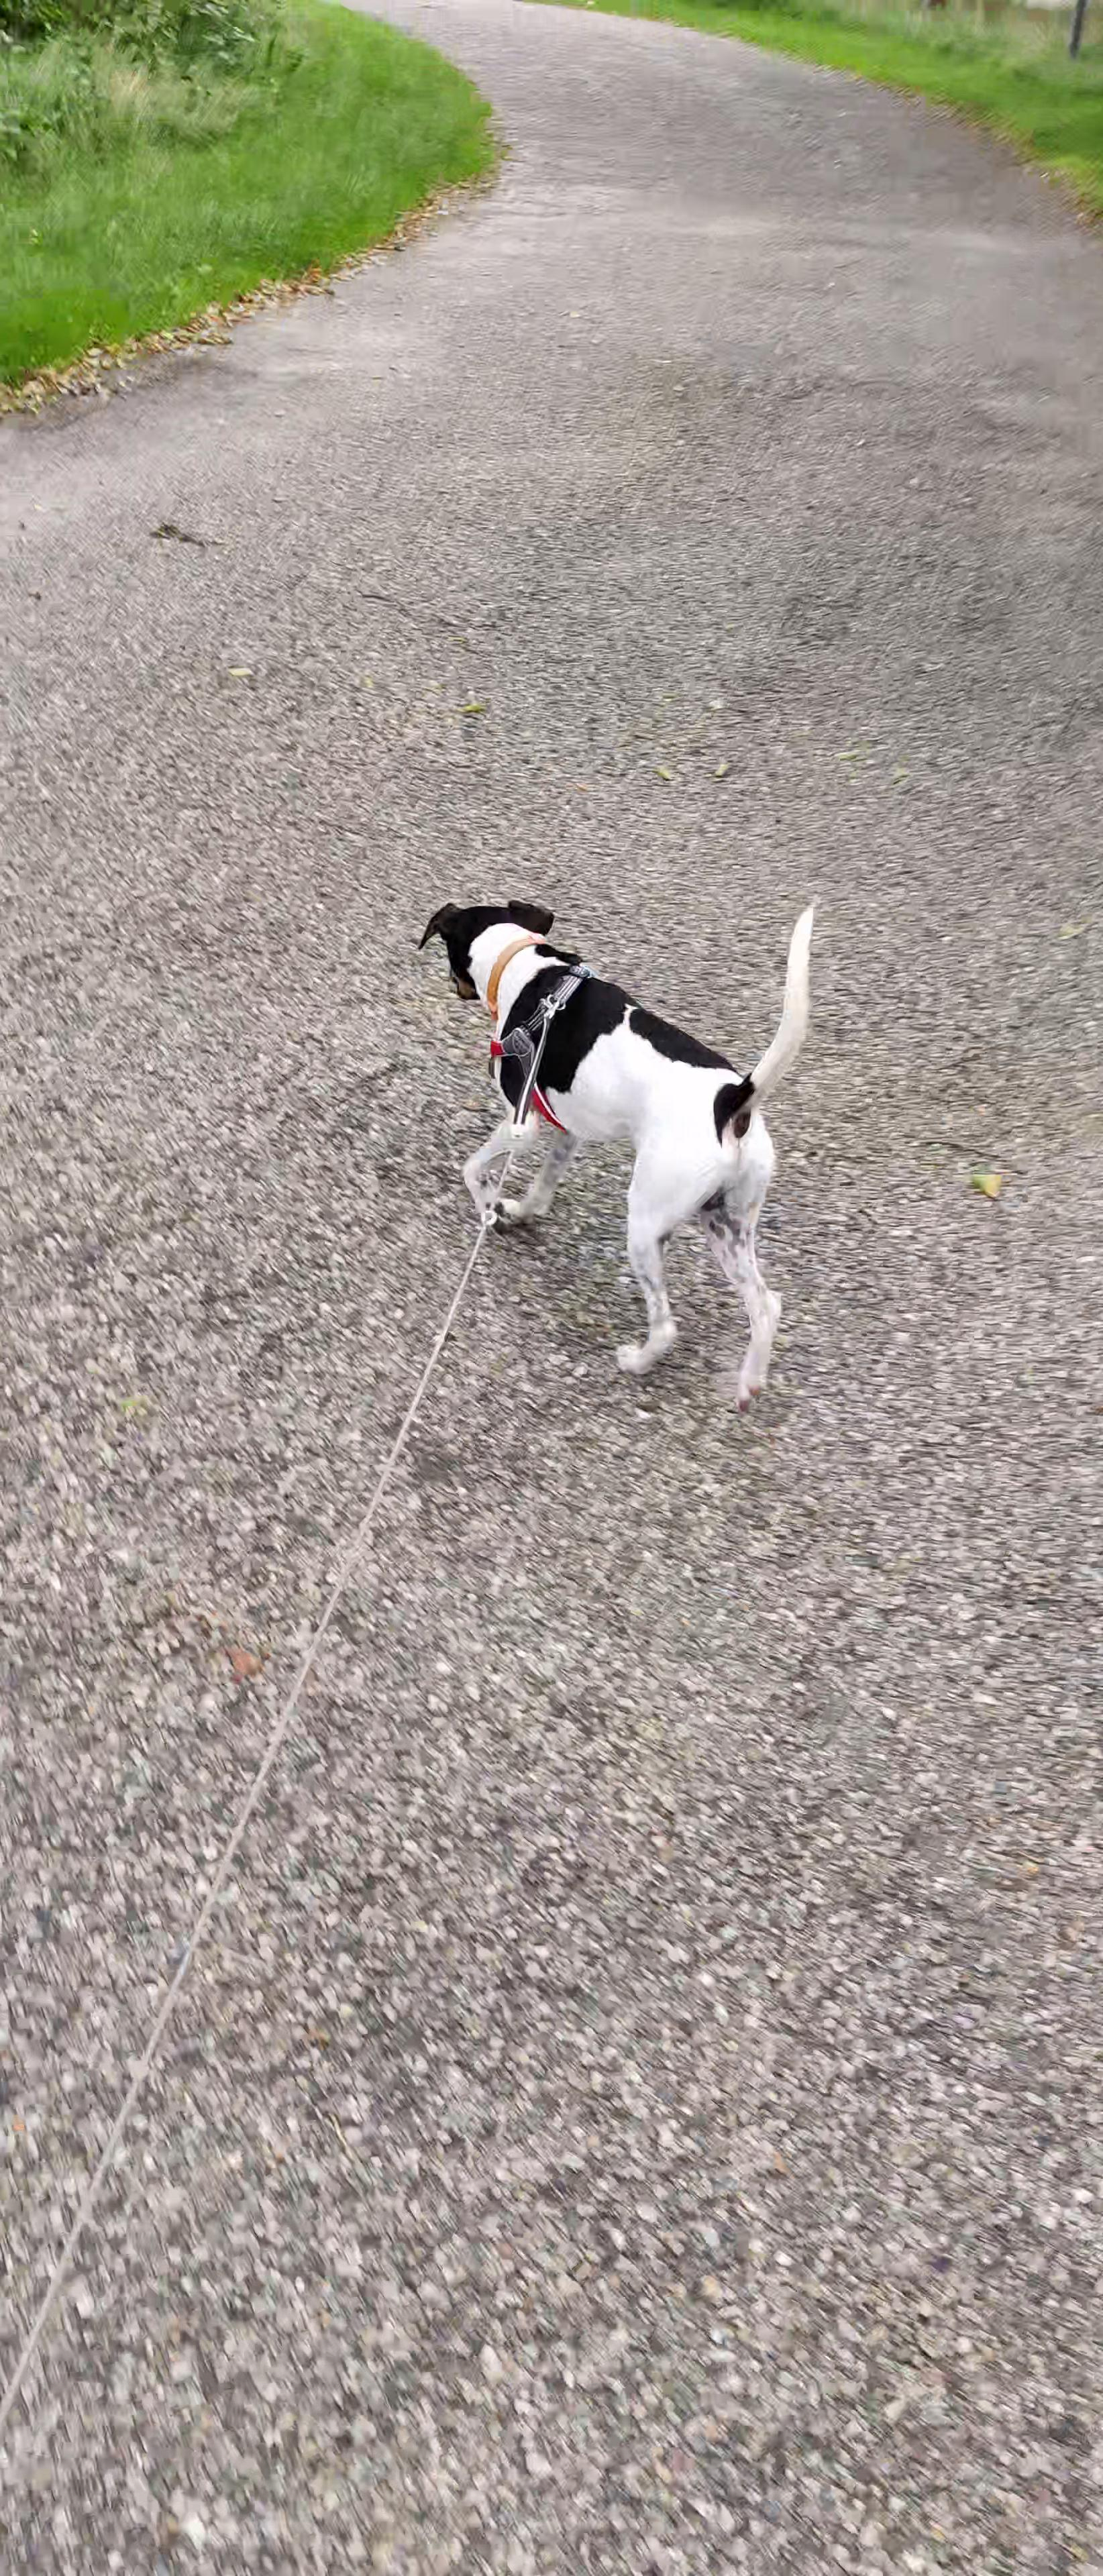Dog: (391, 844, 838, 1426)
